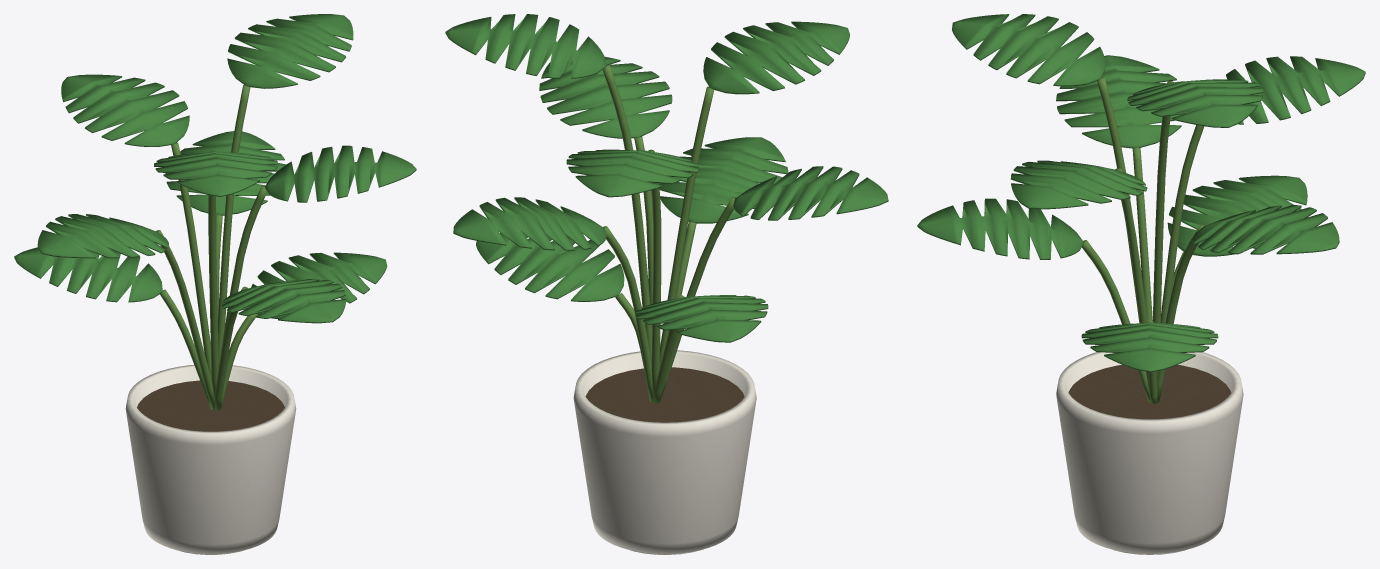
File: monstera.glb
3 views of the same model, side by side, from view 1: azimuth 30°, elevation 25°; view 2: azimuth 150°, elevation 25°; view 3: azimuth 270°, elevation 25° (orthographic). The views are drawn at different scales.
Visible parts, largest first — view 1: Split leaves, Plain ceramic planter, Soil surface, Leaf petiole.008, Leaf petiole.006, Leaf petiole.007, Leaf petiole.004, Leaf petiole.005, Leaf petiole.002, Leaf petiole.001, Leaf petiole; view 2: Split leaves, Plain ceramic planter, Soil surface, Leaf petiole.007, Leaf petiole.008, Leaf petiole.006, Leaf petiole.003, Leaf petiole.004, Leaf petiole.005, Leaf petiole.001, Leaf petiole.002; view 3: Split leaves, Plain ceramic planter, Soil surface, Leaf petiole.008, Leaf petiole.006, Leaf petiole.004, Leaf petiole.005, Leaf petiole.003, Leaf petiole.002, Leaf petiole.007.
Boxes of the visible parts, x1,y1,x2,y2 form: Split leaves: (14,14,416,323); Plain ceramic planter: (125,365,296,553); Soil surface: (137,380,284,431); Leaf petiole.008: (218,85,250,364); Leaf petiole.006: (171,142,211,379); Leaf petiole.007: (208,150,218,397); Leaf petiole.004: (156,230,214,410); Leaf petiole.005: (222,185,266,387); Leaf petiole.002: (214,286,247,410); Leaf petiole.001: (160,289,211,408); Leaf petiole: (220,314,257,408); Split leaves: (445,14,888,342); Plain ceramic planter: (573,350,756,553); Soil surface: (585,367,744,422); Leaf petiole.007: (659,86,714,368); Leaf petiole.008: (603,64,652,360); Leaf petiole.006: (648,149,661,399); Leaf petiole.003: (603,226,653,402); Leaf petiole.004: (660,196,735,401); Leaf petiole.005: (634,136,653,304); Leaf petiole.001: (653,295,684,403); Leaf petiole.002: (676,222,696,298); Split leaves: (917,14,1365,372); Plain ceramic planter: (1056,352,1243,553); Soil surface: (1068,364,1231,419); Leaf petiole.008: (1152,81,1173,383); Leaf petiole.006: (1160,125,1204,323); Leaf petiole.004: (1132,148,1152,320); Leaf petiole.005: (1115,168,1149,394); Leaf petiole.003: (1157,224,1205,402); Leaf petiole.002: (1082,240,1150,402); Leaf petiole.007: (1097,77,1139,323).
Size of the model in its own units: 0.9849 by 1.17 by 0.9567.
Materials: 4 (4 with a texture image).
